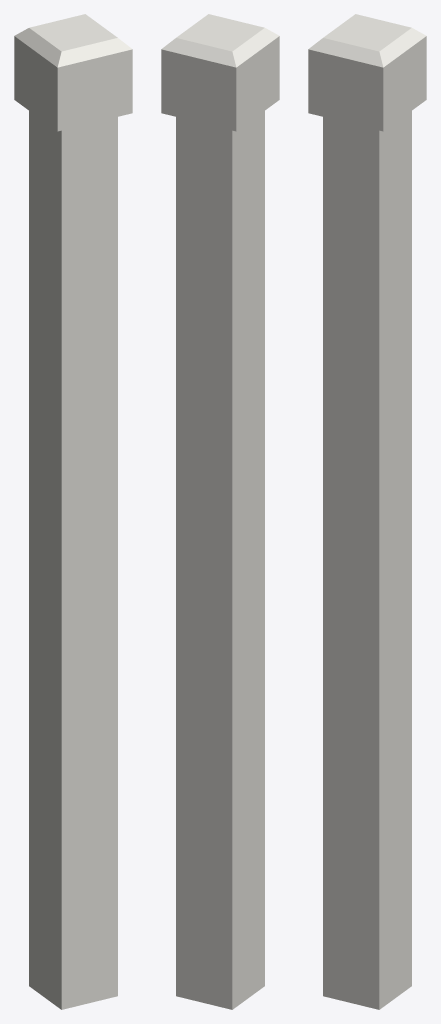
Rendered from FMS_Garden_Lattice_Post.fbx.
The picture shows the model from 3 angles, left to right: view 1: azimuth 30°, elevation 25°; view 2: azimuth 150°, elevation 25°; view 3: azimuth 330°, elevation 25°; orthographic projection.
Parts seen in each view (by area): view 1: FMS_Garden_Lattice_Post_Body; view 2: FMS_Garden_Lattice_Post_Body; view 3: FMS_Garden_Lattice_Post_Body.
Part boxes in pixels (x1,y1,x2,y2): FMS_Garden_Lattice_Post_Body: [14, 14, 132, 1009]; FMS_Garden_Lattice_Post_Body: [161, 14, 279, 1009]; FMS_Garden_Lattice_Post_Body: [308, 14, 426, 1009].
Bounding box in the file's own units: 0.16 × 1.95 × 0.16.
1 material, 1 textured.
